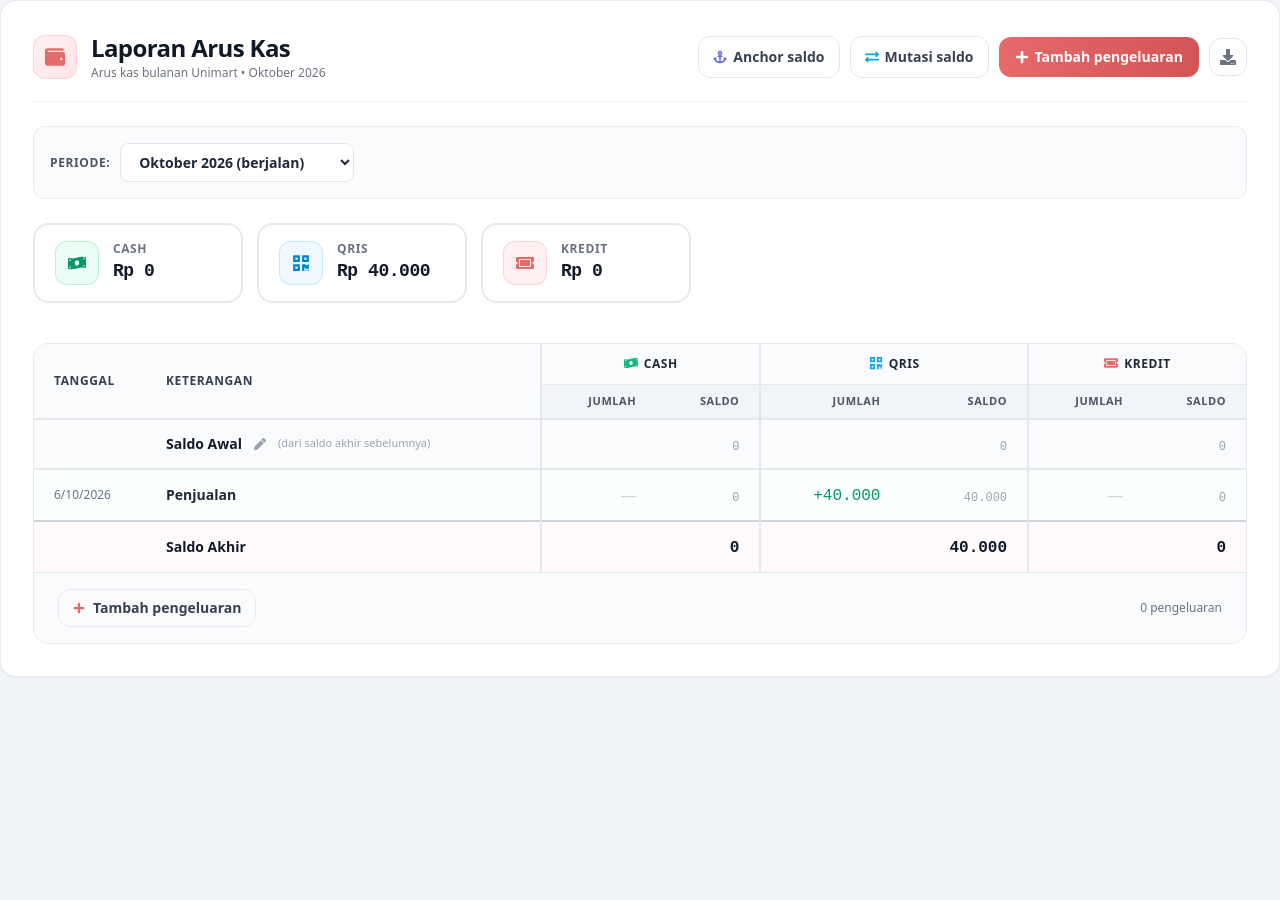
Test case: Finance cashflow statement › days without a Laporan Harian › the Sales row says where its numbers come from
Hover over the element showing "Penjualan" at (201,494), box [166,484,236,504]
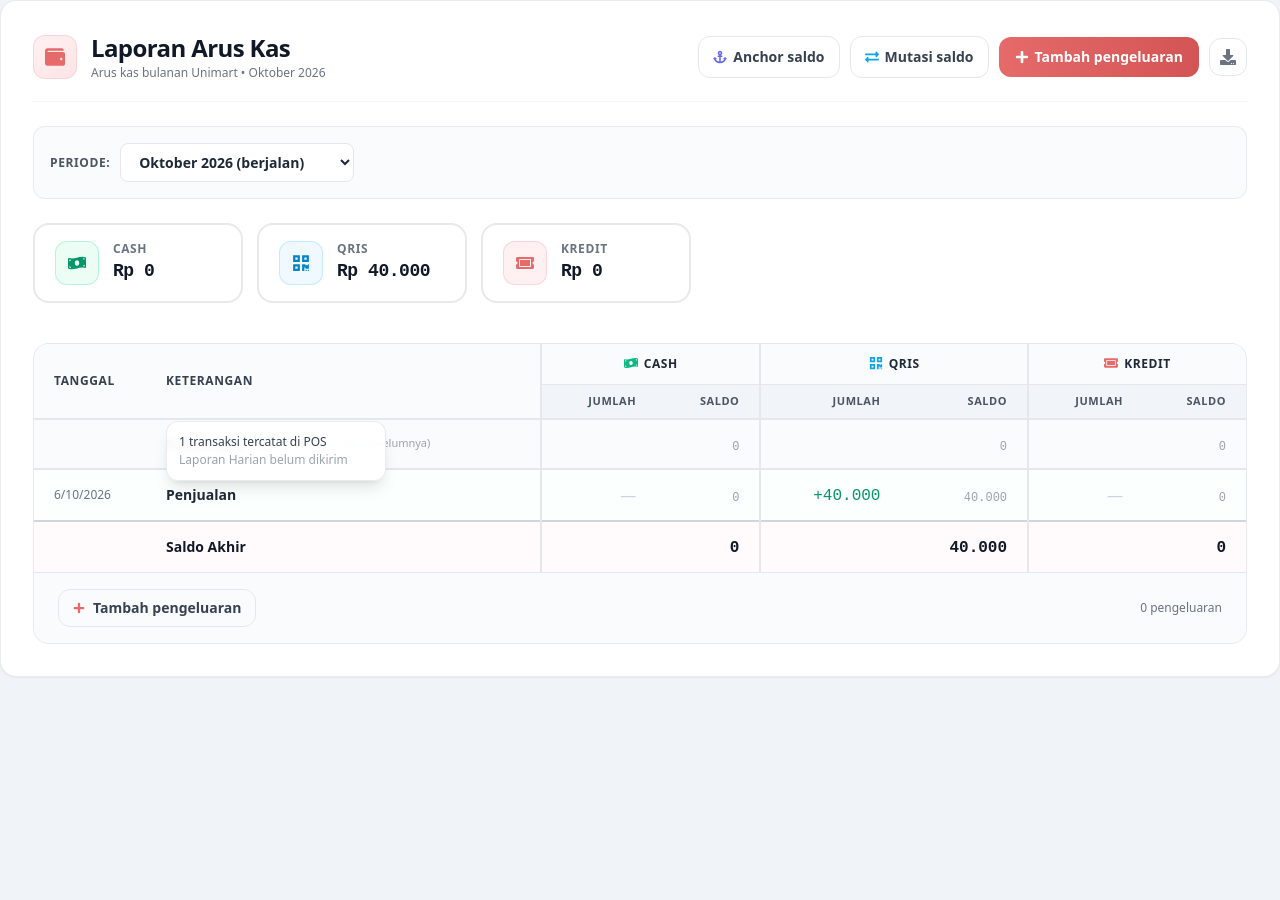
expect the text "1 transaksi tercatat di POS" is shown: met, box [179,432,327,450]
expect the text "Laporan Harian belum dikirim" is shown: met, box [179,452,373,468]
